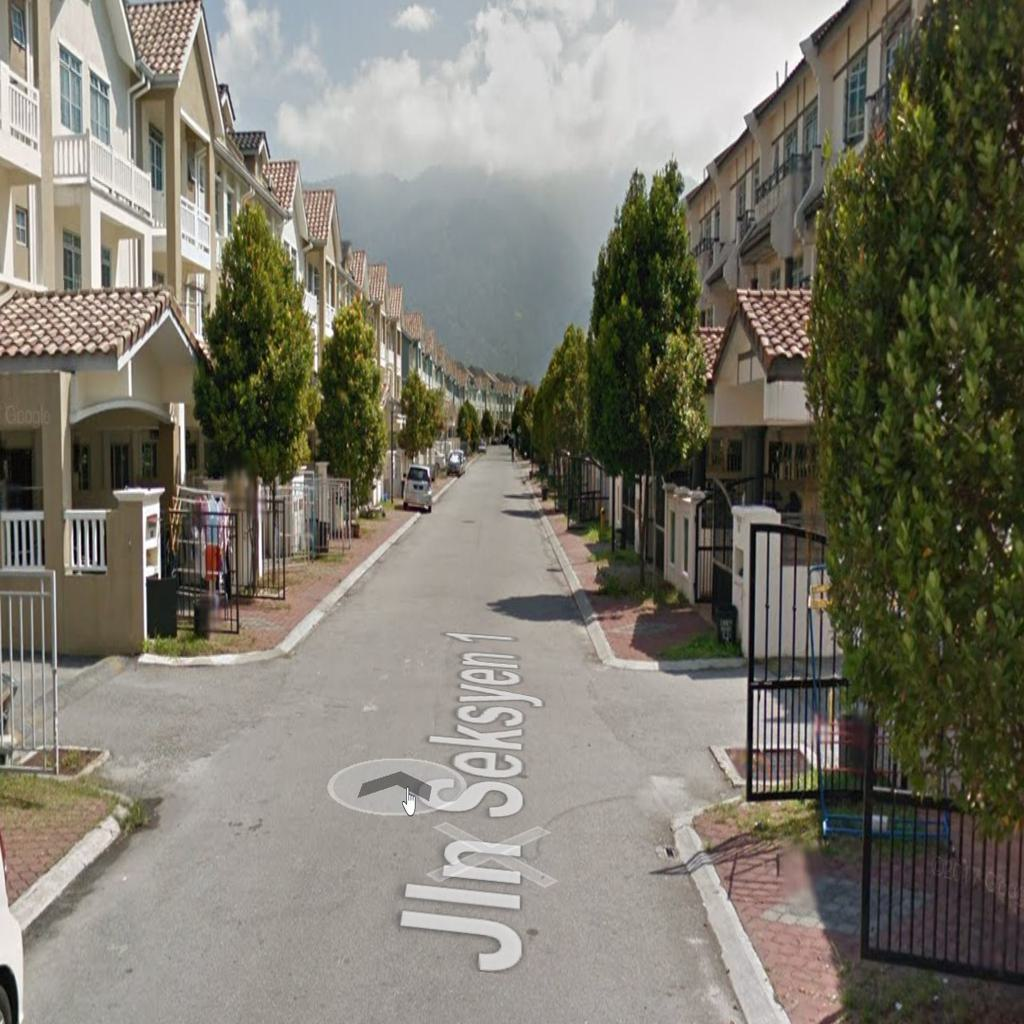Junction: (562, 613, 846, 838), (10, 612, 300, 824)
